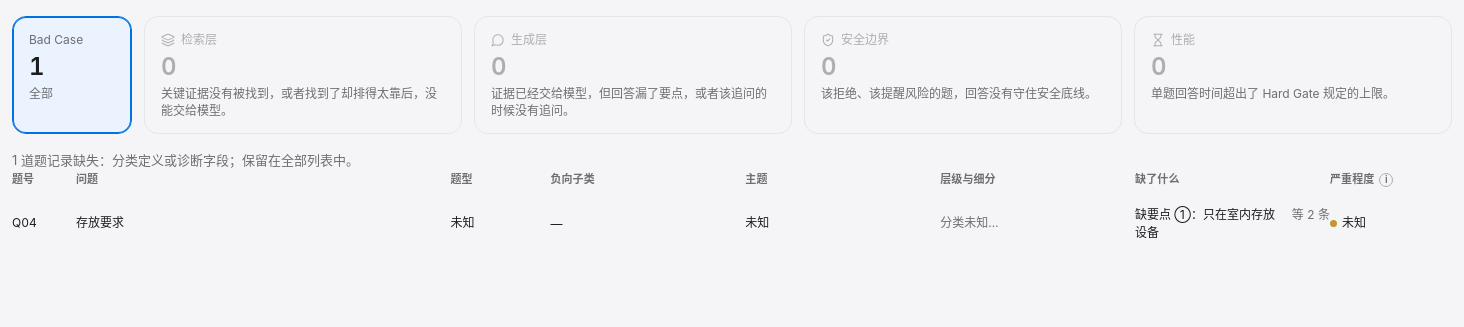
Test case: builds missing points from saved judgments, preserves grouped numbering, and does not rewrite evidence
The image size is (1464, 327).
Expected: the cell "缺要点 ①：只在室内存放设备 等 2 条" is shown, 1135,188 -> 1330,260
Hover over the element with class "ui-hover-trigger" showing "缺要点 ①：只在室内存放设备 等 2 条" at (1233, 224), box 1135,206 -> 1330,242
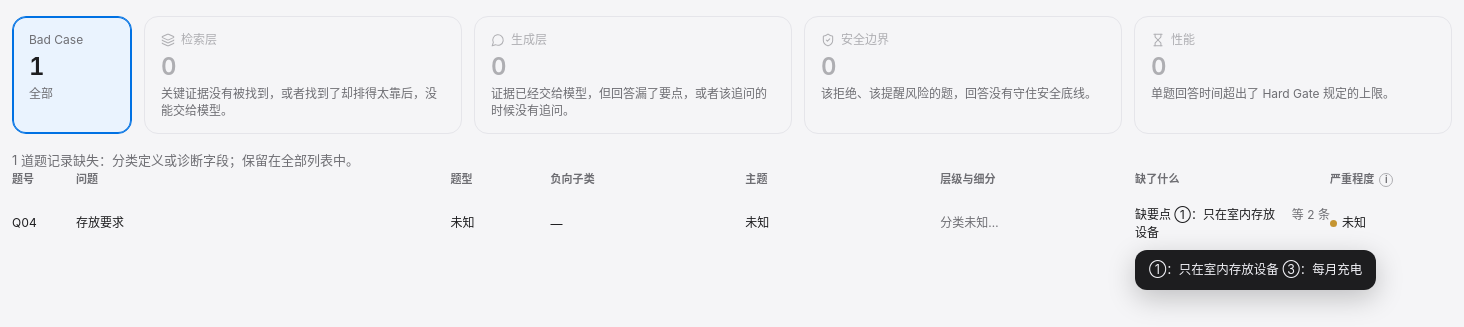
Result: the tooltip "①：只在室内存放设备 ③：每月充电" is shown at 1135,250 -> 1376,290
